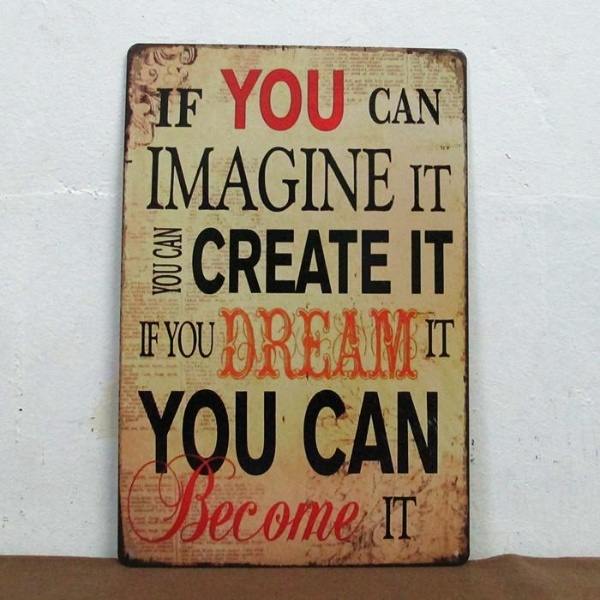text: (353, 453, 369, 543), (177, 453, 192, 543), (193, 453, 208, 543), (209, 453, 224, 543), (225, 453, 240, 543), (241, 453, 256, 543), (257, 453, 272, 543), (273, 453, 288, 543), (289, 453, 304, 543), (305, 453, 320, 543), (321, 453, 336, 543), (337, 453, 352, 543), (145, 390, 160, 477), (161, 390, 176, 477), (177, 390, 192, 477), (193, 390, 208, 477), (209, 390, 224, 477), (225, 390, 240, 477), (241, 390, 256, 477), (257, 390, 272, 477), (305, 389, 320, 476), (321, 389, 336, 476), (337, 389, 352, 476), (353, 389, 368, 476), (369, 389, 384, 476), (385, 389, 400, 476), (401, 389, 416, 476), (417, 389, 432, 476), (163, 453, 176, 543), (225, 306, 240, 383), (241, 306, 256, 383), (257, 306, 272, 383), (273, 306, 288, 383), (289, 306, 304, 383), (305, 306, 320, 383), (321, 306, 336, 383), (337, 306, 352, 383), (353, 306, 368, 383), (369, 306, 384, 383), (385, 306, 400, 383), (401, 306, 416, 383), (193, 228, 208, 296), (209, 228, 224, 296), (225, 228, 240, 296), (241, 228, 256, 296), (257, 228, 272, 296), (273, 228, 288, 296), (289, 228, 304, 296), (305, 228, 320, 296), (321, 228, 336, 296), (337, 228, 352, 296), (353, 228, 368, 296), (369, 228, 384, 296), (161, 145, 176, 213), (177, 145, 192, 213), (193, 145, 208, 213), (209, 145, 224, 213), (225, 145, 240, 213), (241, 145, 256, 213), (257, 145, 272, 213), (273, 145, 288, 213), (289, 145, 304, 213), (305, 145, 320, 213), (321, 145, 336, 213), (337, 145, 352, 213), (353, 145, 368, 213), (369, 145, 384, 213), (417, 229, 432, 295), (433, 229, 448, 295), (225, 68, 240, 133), (241, 68, 256, 133), (257, 68, 272, 133), (273, 68, 288, 133), (289, 68, 304, 133), (305, 68, 320, 133), (321, 68, 336, 133), (146, 145, 160, 213), (417, 163, 432, 213), (433, 163, 448, 213), (385, 145, 396, 213), (385, 496, 400, 541), (401, 496, 416, 541), (433, 318, 448, 360), (433, 389, 440, 476), (369, 86, 384, 126), (385, 86, 400, 126), (401, 86, 416, 126), (417, 86, 432, 126), (161, 89, 176, 129), (177, 89, 192, 129), (177, 321, 192, 360), (193, 321, 208, 360), (145, 320, 160, 358), (217, 306, 224, 383), (138, 390, 144, 477), (337, 68, 345, 133), (163, 321, 176, 360), (161, 227, 176, 260), (161, 264, 176, 297), (385, 228, 392, 296), (409, 229, 416, 295), (273, 390, 278, 477), (433, 86, 443, 126), (193, 89, 203, 129), (449, 229, 455, 295), (409, 163, 416, 213), (449, 318, 457, 360), (417, 306, 421, 383), (425, 318, 432, 360), (209, 321, 216, 360), (152, 264, 160, 297), (220, 68, 224, 133), (153, 227, 160, 260), (177, 227, 184, 260), (449, 163, 453, 213), (139, 320, 144, 358), (177, 264, 182, 297), (156, 89, 160, 129), (417, 496, 420, 541), (303, 389, 304, 476), (161, 320, 163, 358), (191, 228, 192, 296), (383, 496, 384, 541)
